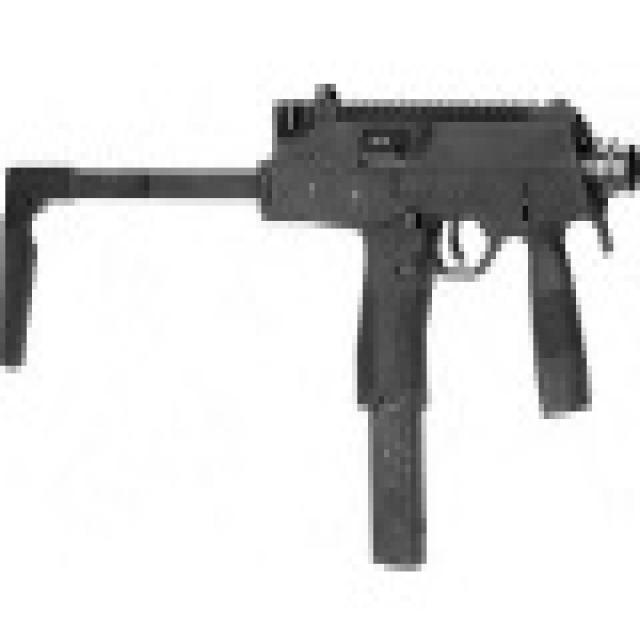Gun: (38, 47, 640, 480)
